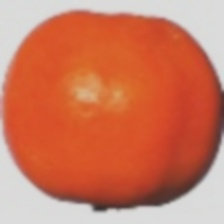tangerine: (51, 20, 197, 195)
